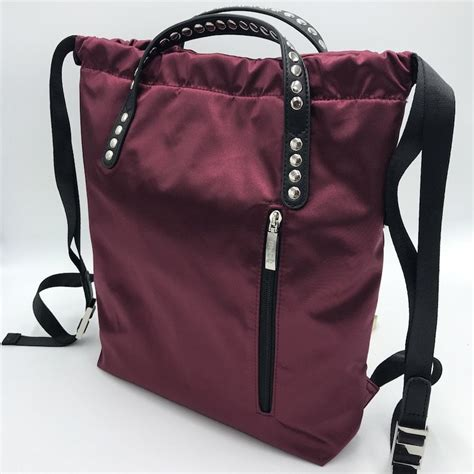nylon: (71, 35, 417, 466)
